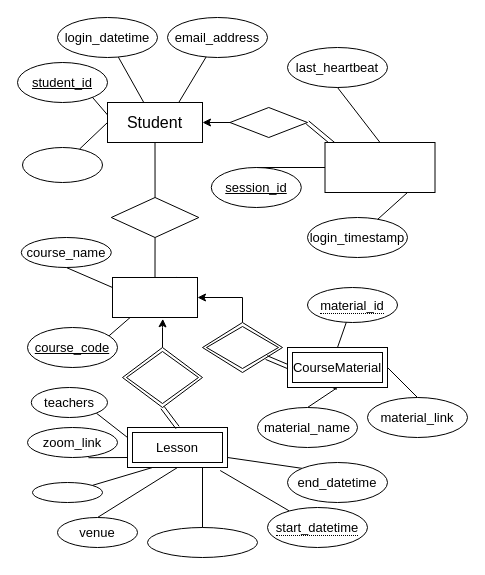
This 485x575 diagram has some shape labels left out. The shapes that lost their labels are listed below. From the top down, each one's box as (x1, y1, x2, y2) in pixels, then its label:
(229, 106, 308, 138): involves
(22, 146, 102, 182): name
(324, 142, 435, 192): LoginSession
(110, 196, 199, 238): enroll
(112, 276, 198, 318): Course
(202, 322, 282, 372): contains
(122, 346, 202, 408): has
(32, 482, 102, 502): type
(146, 526, 258, 558): teacher_msg
